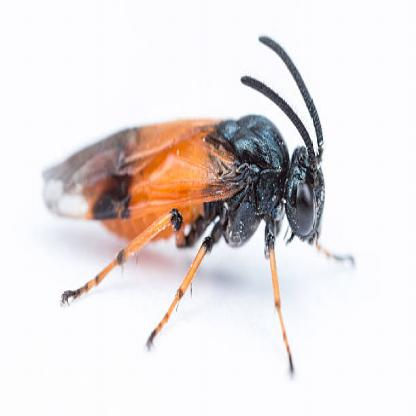sawfly: (36, 27, 356, 375)
